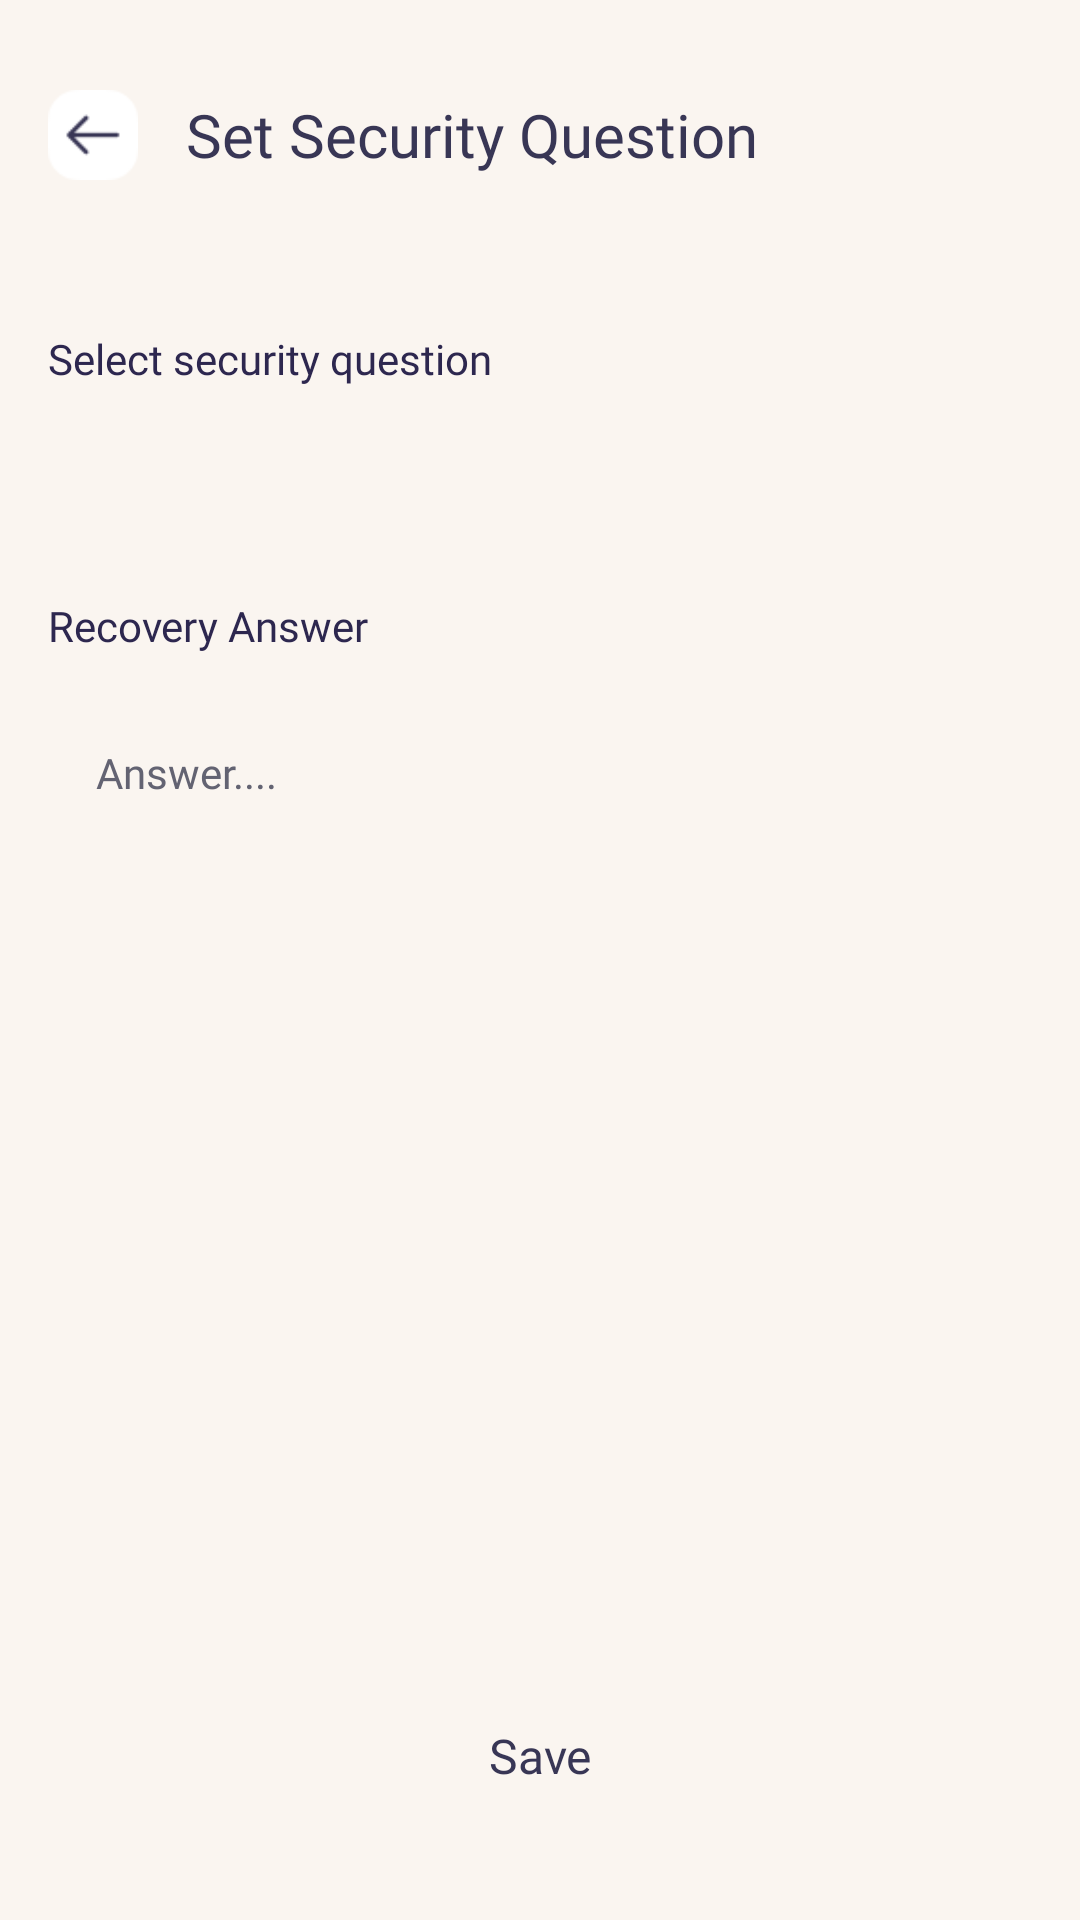

Point at icon controls on the screen. Image size 1080w x 1920h, points as (x=x, y=y).
back: (x=93, y=135)
